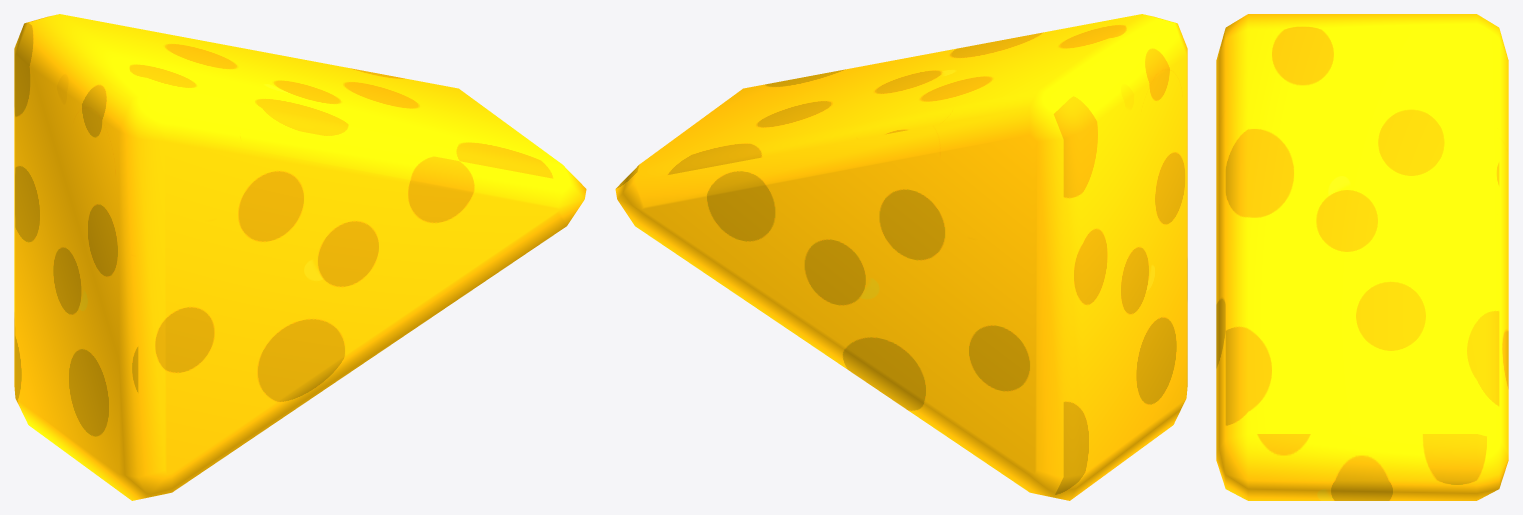
The model's file is yellow_cheese.glb.
3 views of the same model, side by side, from view 1: azimuth 30°, elevation 25°; view 2: azimuth 150°, elevation 25°; view 3: azimuth 270°, elevation 25° (orthographic). The views are drawn at different scales.
Visible parts, largest first — view 1: Yellow_Chesse; view 2: Yellow_Chesse; view 3: Yellow_Chesse.
Boxes of the visible parts, x1=… form: Yellow_Chesse: x1=14, y1=14, x2=586, y2=500; Yellow_Chesse: x1=615, y1=14, x2=1187, y2=500; Yellow_Chesse: x1=1216, y1=14, x2=1508, y2=500.
Size of the model in its own units: 0.5072 by 0.4195 by 0.249.
1 material, 1 textured.
